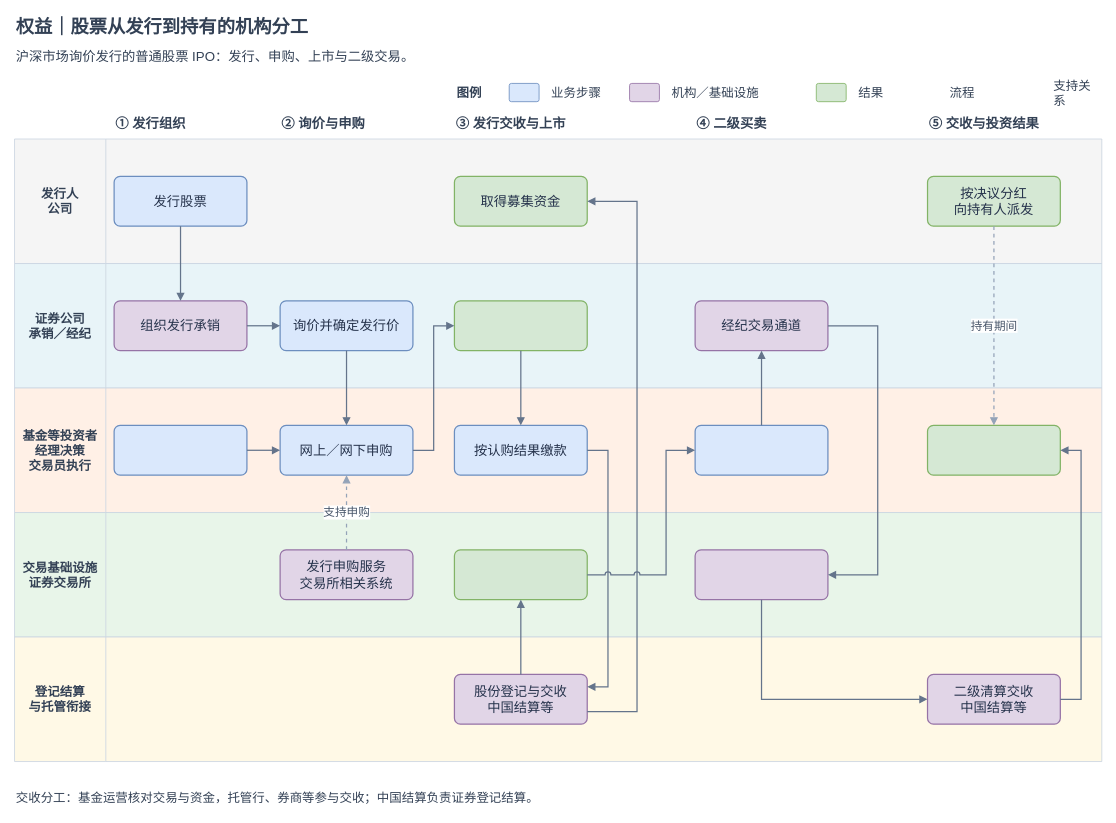
Image size: 1116x823. Some labels were removed from this diagram. The shapes that lost their labels are listed below. From the top down, each one's box as (x1, y1, x2, y2) in pixels, then its label:
(453, 300, 587, 351): 网上中签 或网下获配
(113, 424, 247, 475): 研究并决定投资
(694, 424, 828, 475): 提交买卖委托
(927, 424, 1061, 475): 买方持有 卖方退出相应持仓
(453, 549, 587, 600): 股票上市
(694, 549, 828, 600): 组织二级成交 交易所
